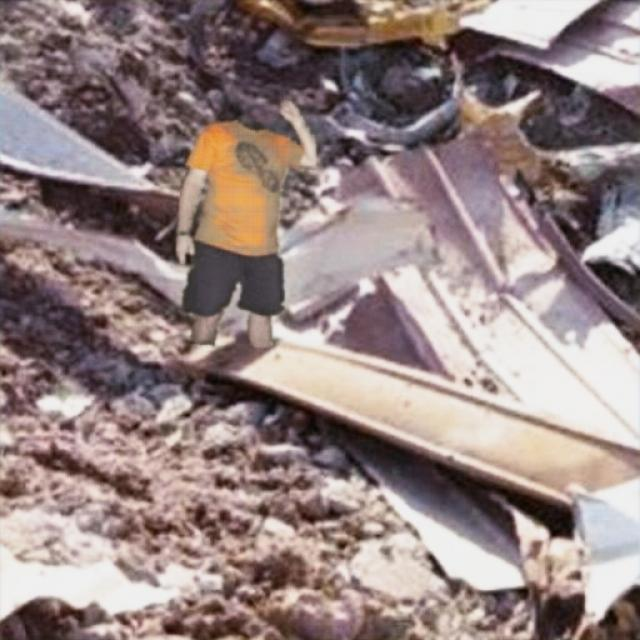Person in Rubble: (176, 101, 315, 346)
